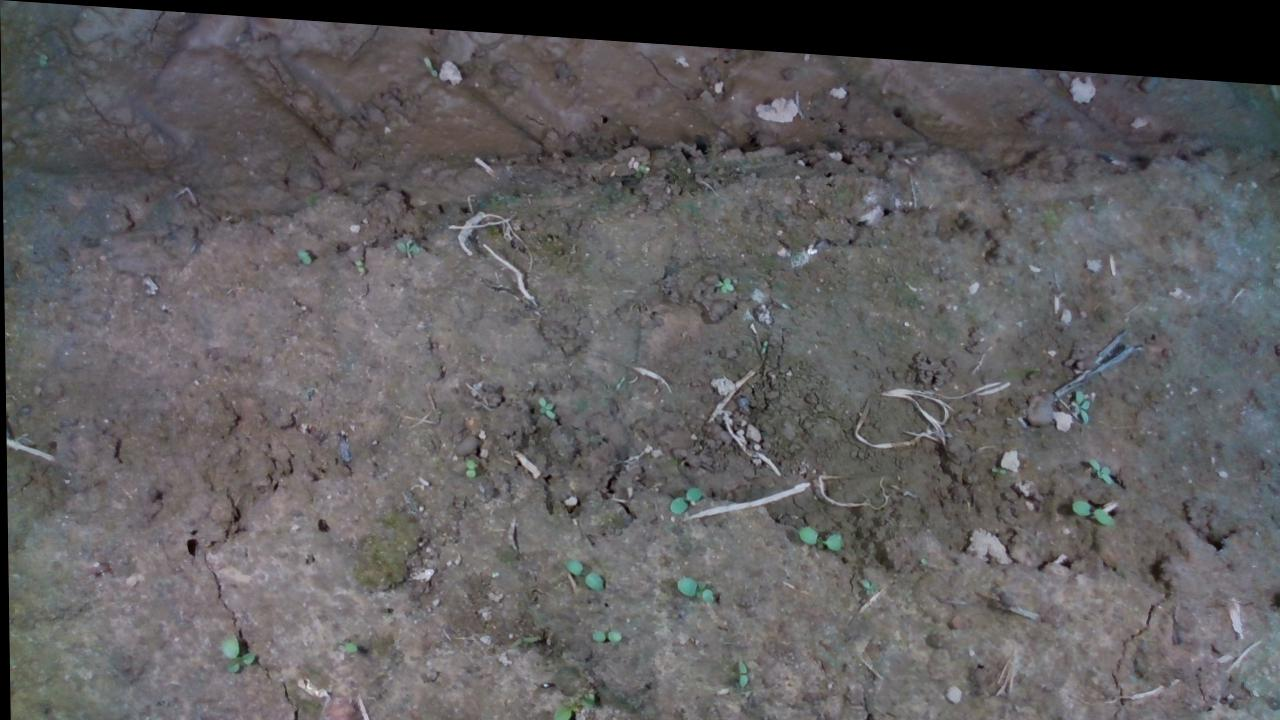weed: (795, 506, 852, 544), (1069, 480, 1122, 518), (217, 627, 259, 674), (670, 556, 718, 592), (558, 545, 602, 582), (663, 470, 694, 506), (1067, 371, 1095, 409), (1083, 437, 1115, 470), (729, 644, 755, 680), (588, 611, 623, 630), (531, 385, 554, 411), (296, 241, 320, 264), (334, 631, 352, 651)
